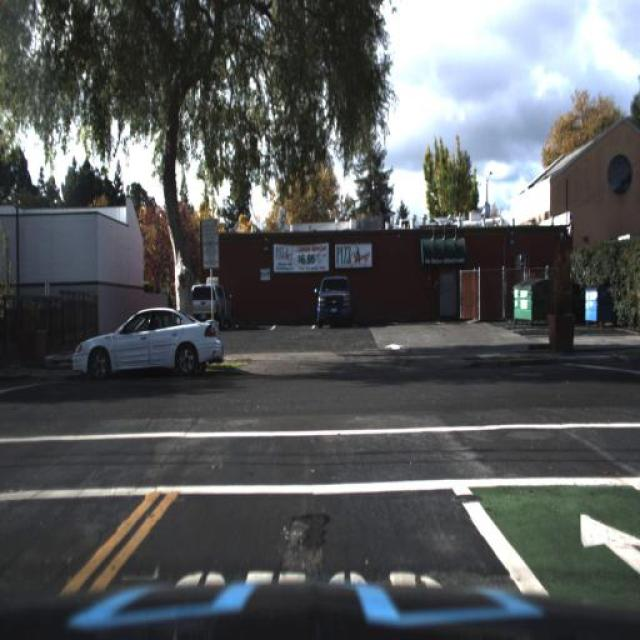car: (69, 289, 232, 400), (310, 268, 356, 331), (180, 280, 224, 316)
